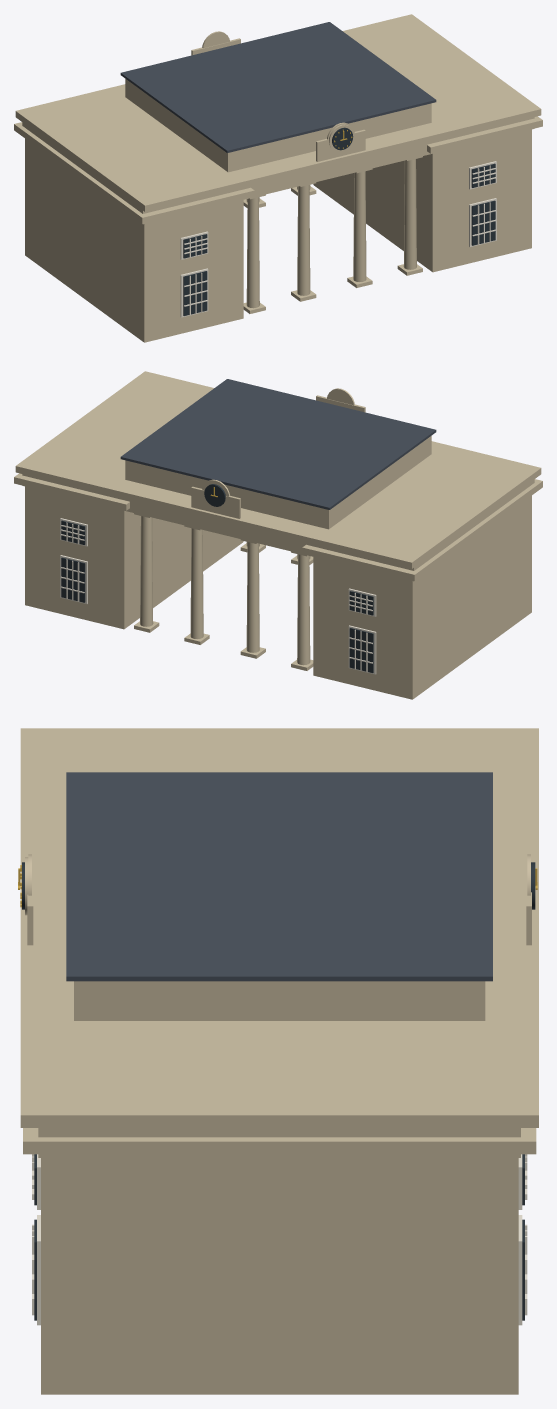
The model's file is haarlemmerpoort.glb.
3 renders of one model, top to bottom at view 1: azimuth 30°, elevation 25°; view 2: azimuth 150°, elevation 25°; view 3: azimuth 270°, elevation 25°, orthographic. The views are drawn at different scales.
Parts seen in each view (by area): view 1: haarlemmerpoort; view 2: haarlemmerpoort; view 3: haarlemmerpoort.
Part boxes in pixels (x1,y1,x2,y2): haarlemmerpoort: (14,14,542,342); haarlemmerpoort: (14,371,542,699); haarlemmerpoort: (18,728,538,1394).
Size of the model in its own units: 36.36 by 15.1 by 20.46.
